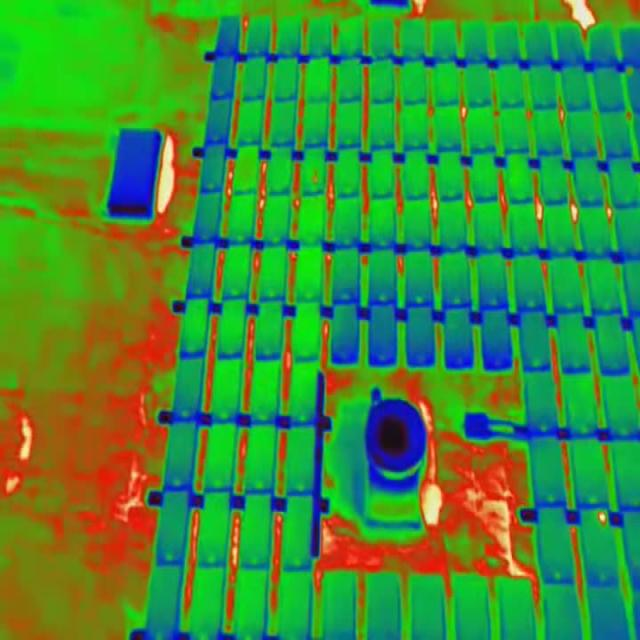Orange-Spots: (598, 511, 606, 525), (313, 169, 319, 185)
